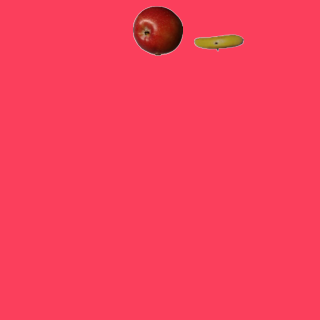Apple Braeburn: (132, 5, 182, 55)
Banana: (193, 17, 243, 67)
